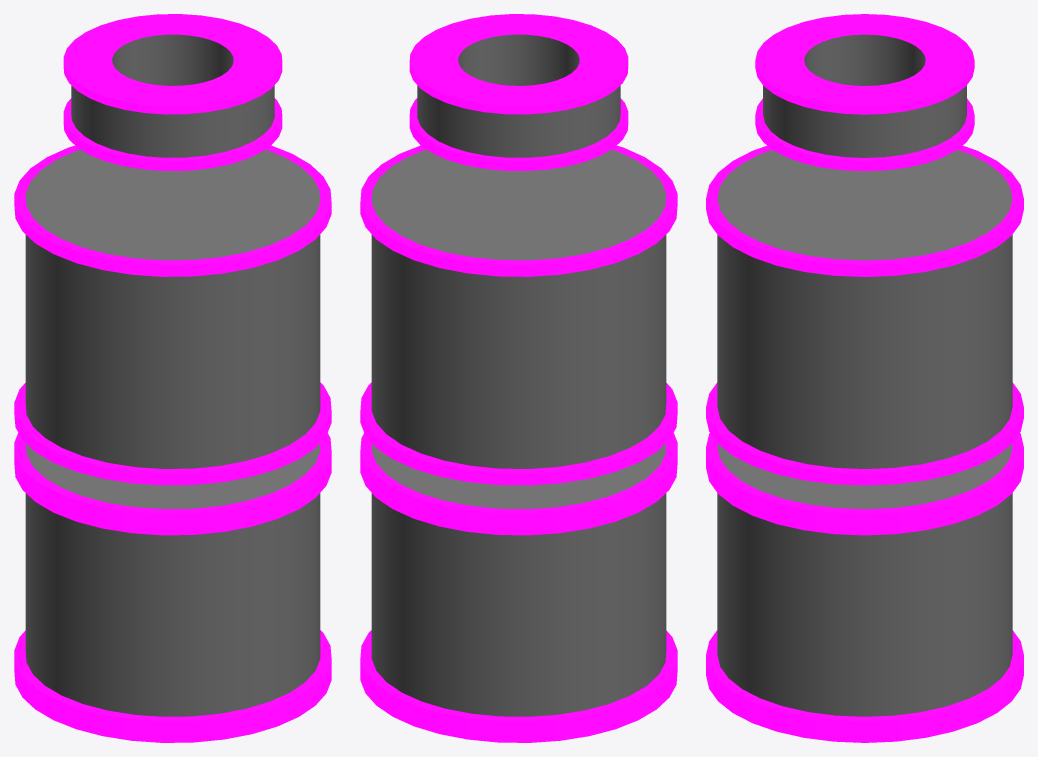
Rendered from MortarDefender health 3.fbx.
3 renders of one model, left to right at view 1: azimuth 30°, elevation 25°; view 2: azimuth 150°, elevation 25°; view 3: azimuth 270°, elevation 25°, orthographic.
Visible parts, largest first — view 1: MortarDefender 3rd health upgrade; view 2: MortarDefender 3rd health upgrade; view 3: MortarDefender 3rd health upgrade.
Part boxes in pixels (bbox=[...]): MortarDefender 3rd health upgrade: bbox=[14, 14, 331, 742]; MortarDefender 3rd health upgrade: bbox=[360, 14, 677, 742]; MortarDefender 3rd health upgrade: bbox=[706, 14, 1023, 742].
Size of the model in its own units: 54.3 by 116 by 54.3.
